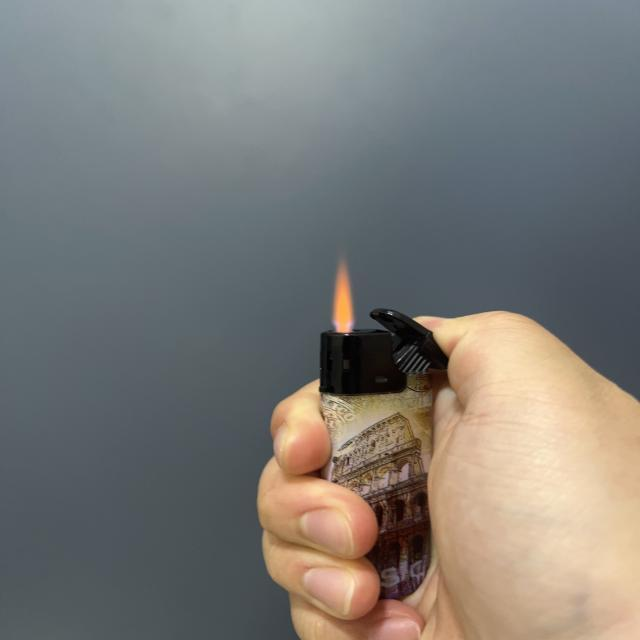fire: (331, 262, 357, 332)
